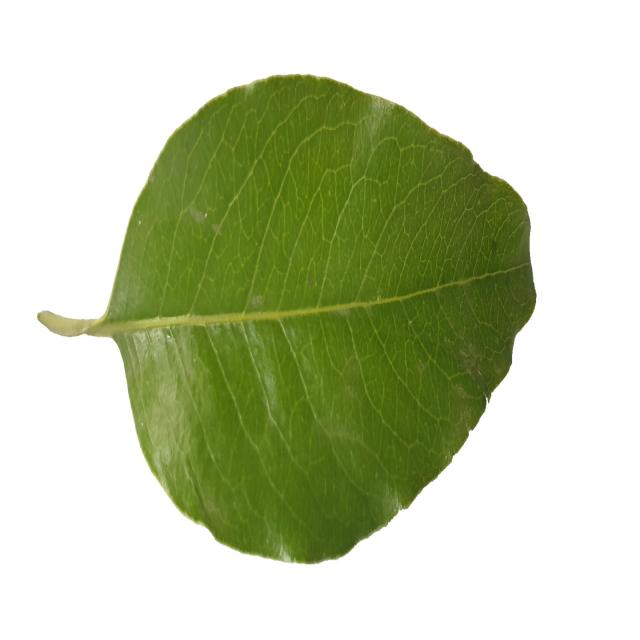Medicinal-Sandalwood: (36, 70, 537, 568)
